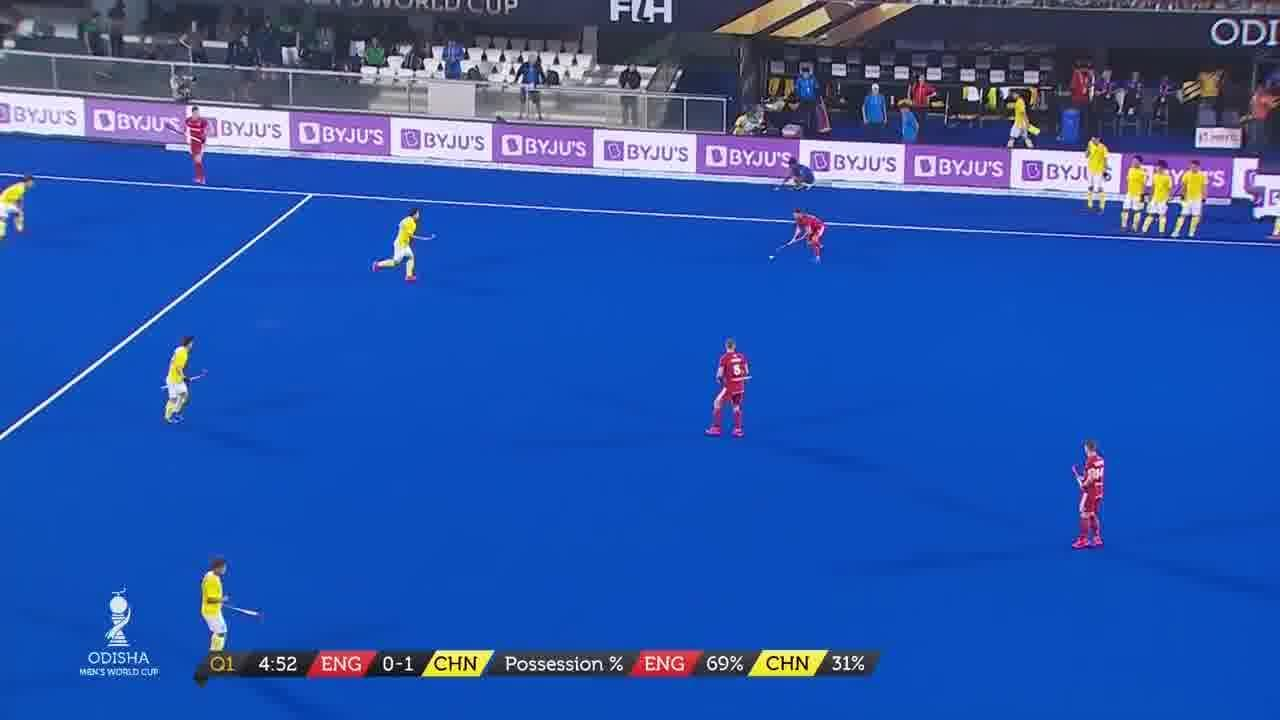ball: (768, 254, 776, 264)
